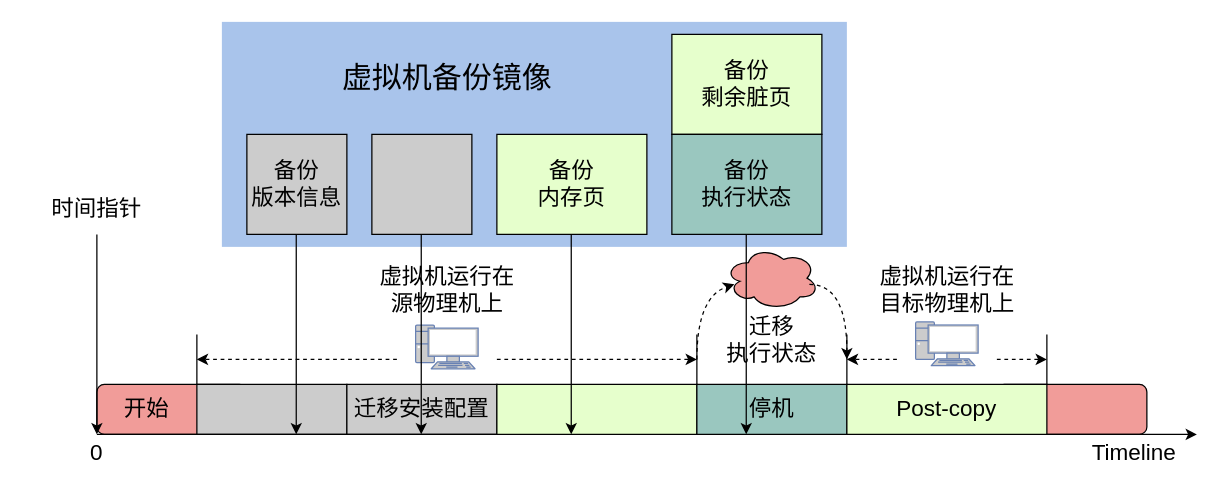
The diagram is 1229 pixels wide and 493 high, and some of its shapes have lost their labels. The shapes that lost their labels are listed below. From the top down, each one's box as (x1, y1, x2, y2) in pixels, then its label:
(371, 133, 472, 234): 备份 安装配置
(196, 383, 347, 434): 迁移版本信息
(496, 383, 697, 434): Pre-copy
(996, 383, 1147, 434): 结束
